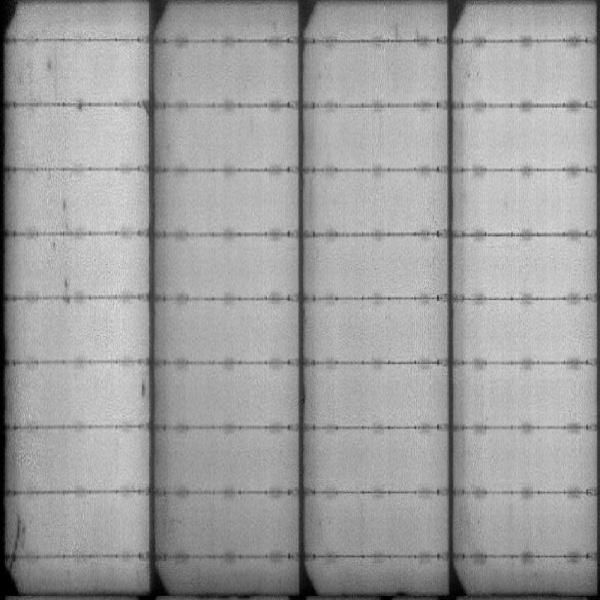scratch: (8, 515, 25, 571)
